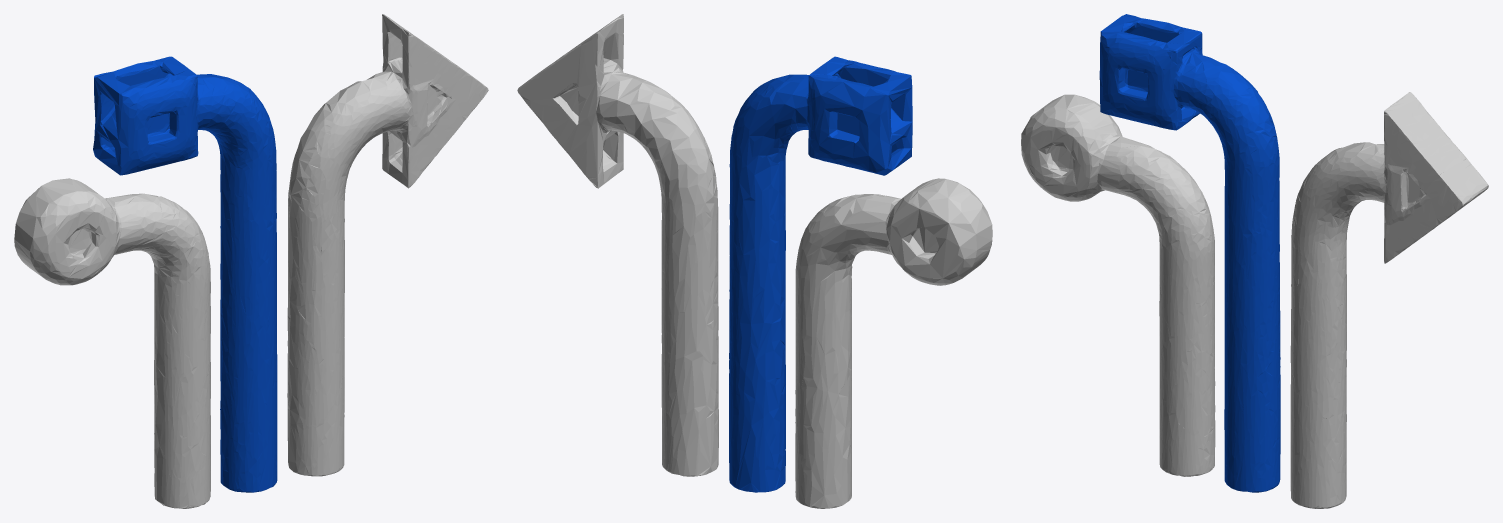
File: simplified_IPCA-EST.obj
The picture shows the model from 3 angles, left to right: view 1: azimuth 30°, elevation 25°; view 2: azimuth 150°, elevation 25°; view 3: azimuth 330°, elevation 25°; orthographic projection.
Visible parts, largest first — view 1: simplify_IPCA-EST.002, simplify_IPCA-EST.003, simplify_IPCA-EST.001; view 2: simplify_IPCA-EST.002, simplify_IPCA-EST.003, simplify_IPCA-EST.001; view 3: simplify_IPCA-EST.002, simplify_IPCA-EST.003, simplify_IPCA-EST.001.
Part boxes in pixels (x1,y1,x2,y2): simplify_IPCA-EST.002: [93, 56, 277, 492]; simplify_IPCA-EST.003: [287, 14, 488, 476]; simplify_IPCA-EST.001: [14, 178, 210, 508]; simplify_IPCA-EST.002: [729, 56, 912, 492]; simplify_IPCA-EST.003: [517, 14, 718, 476]; simplify_IPCA-EST.001: [795, 178, 992, 508]; simplify_IPCA-EST.002: [1099, 14, 1280, 492]; simplify_IPCA-EST.003: [1290, 92, 1488, 508]; simplify_IPCA-EST.001: [1021, 94, 1215, 476].
Bounding box in the file's own units: 1 × 0.9133 × 0.1379.
